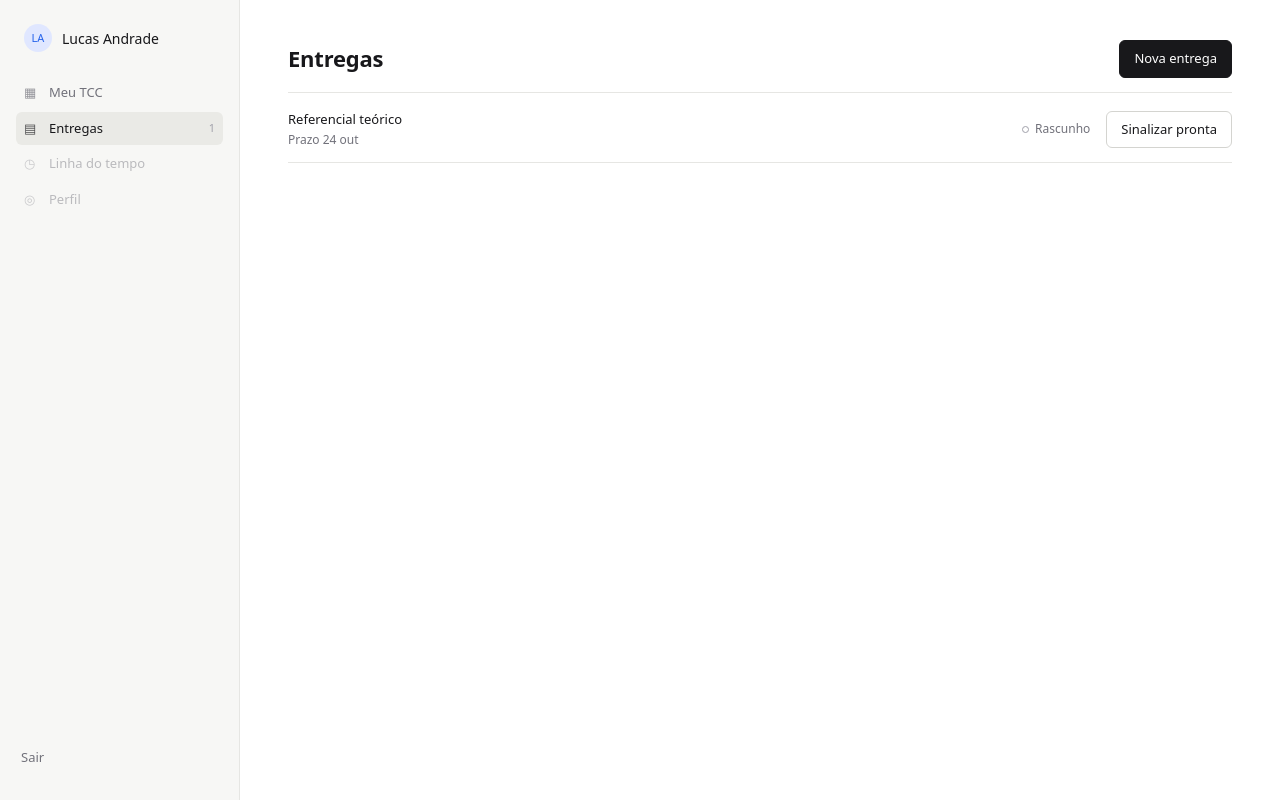
Sinalizar pronta (US08) › mostra a mensagem da API quando a sinalização é recusada
What coordinates should you click on to do the following:
click the button with aria-label "Sinalizar Referencial teórico como pronta"
I would click on:
 (1169, 129)
Its box is [1106,110,1232,148].
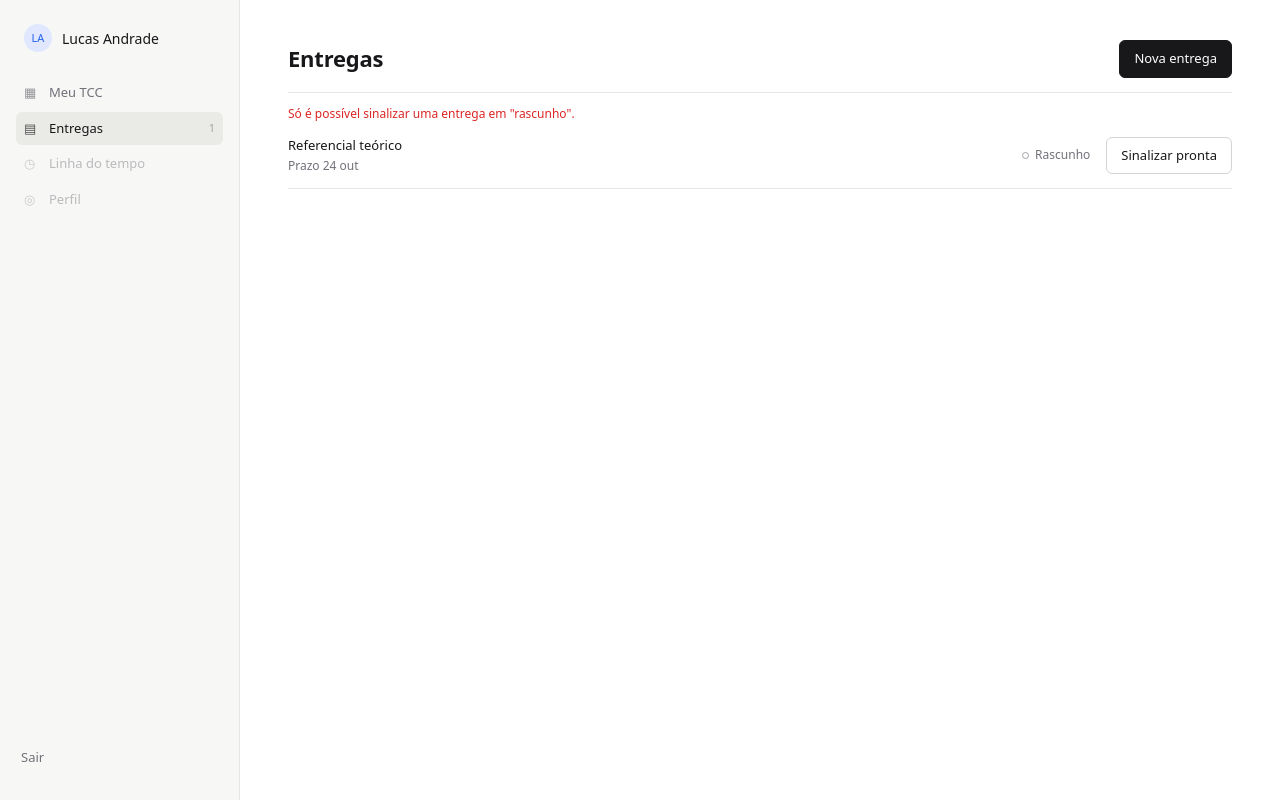
Now the text "Só é possível sinalizar uma entrega em \"rascunho\"." is shown, box [288,104,575,122]
